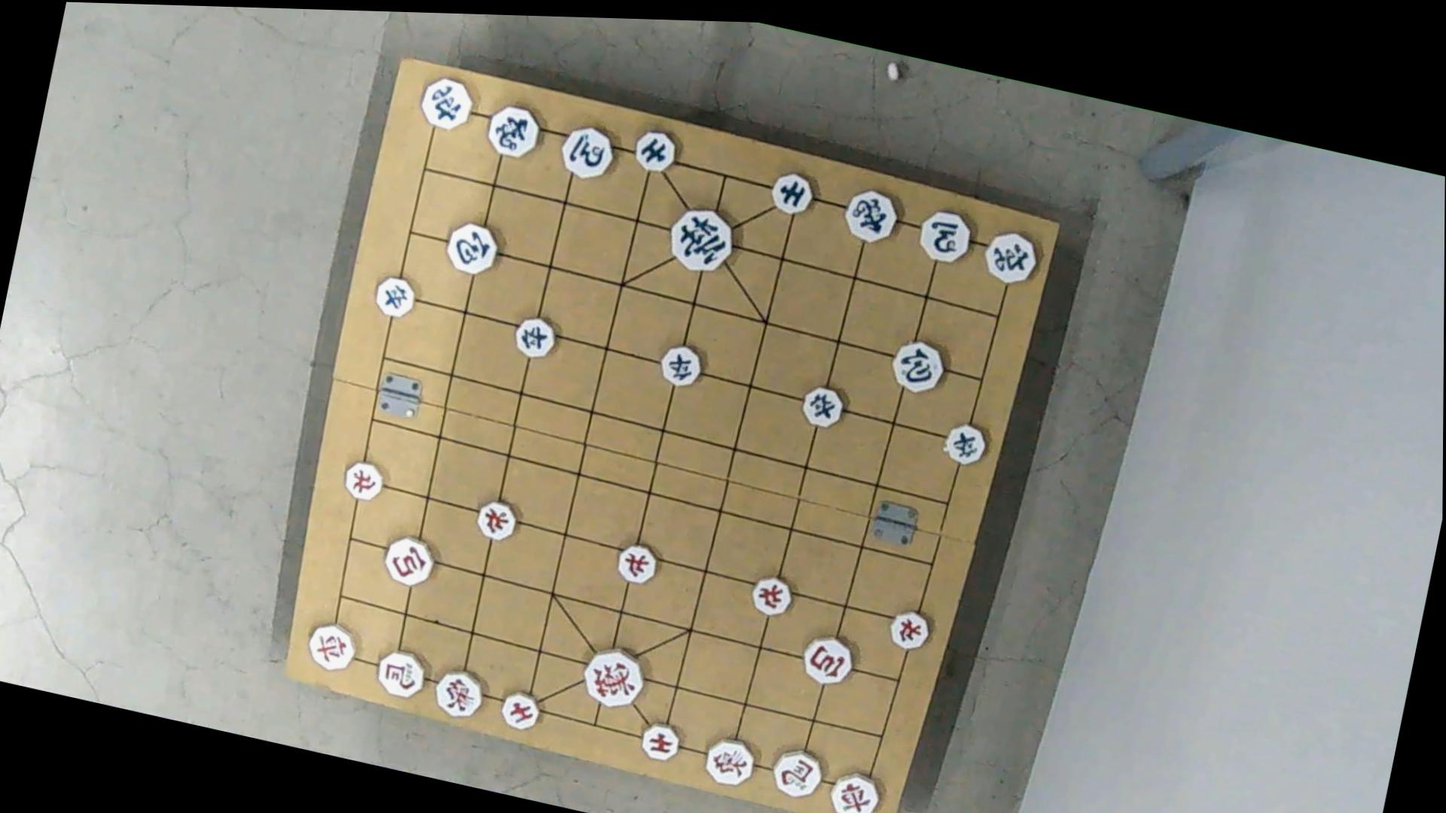cha_green: (980, 222, 1044, 290), (417, 73, 477, 136)
cha_red: (303, 620, 359, 672), (825, 767, 885, 813)
jol_green: (942, 419, 991, 466), (656, 342, 704, 388), (510, 312, 557, 358), (800, 383, 847, 428), (375, 273, 419, 318)
jol_red: (886, 610, 934, 652), (612, 542, 657, 586), (748, 574, 795, 616), (475, 498, 520, 541), (343, 459, 388, 501)
ma_green: (914, 204, 974, 266), (557, 124, 616, 181)
ma_red: (769, 747, 826, 801), (373, 648, 429, 699)
po_green: (889, 337, 948, 394), (444, 218, 501, 276)
po_red: (796, 632, 855, 687), (380, 534, 435, 587)
sa_green: (766, 169, 816, 217), (632, 128, 680, 175)
sa_red: (496, 688, 542, 730), (637, 721, 682, 762)
sang_green: (480, 96, 547, 164), (842, 181, 901, 248)
sang_red: (430, 666, 487, 720), (703, 734, 760, 787)
wang_green: (666, 203, 740, 276)
wang_red: (578, 645, 647, 711)
